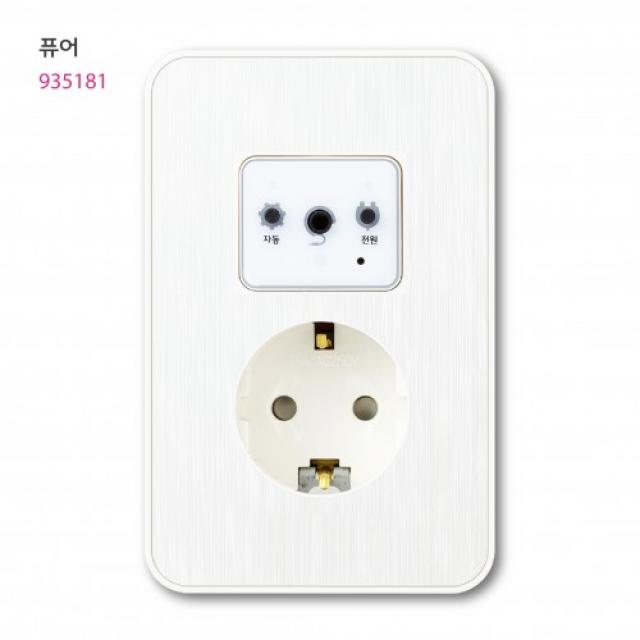typeb: (131, 38, 536, 606)
